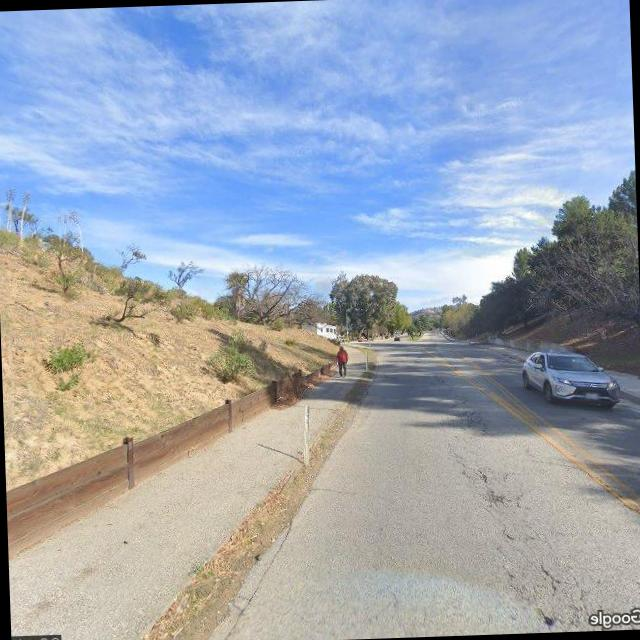crack: (450, 446, 589, 632)
